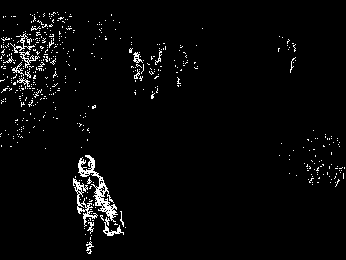person: (71, 153, 126, 255)
